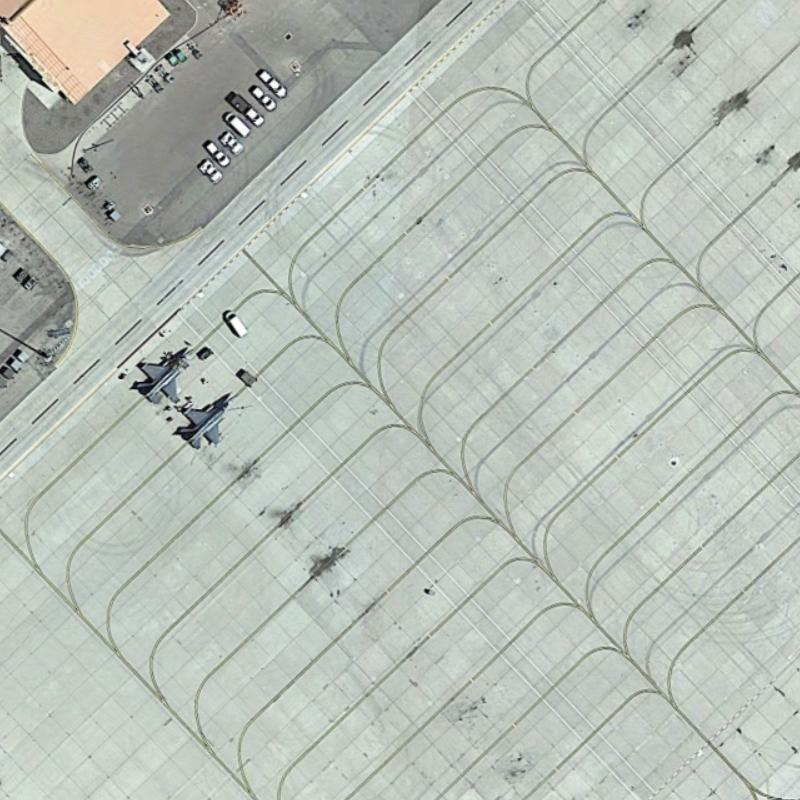A5: (127, 339, 197, 410), (170, 386, 236, 451)
